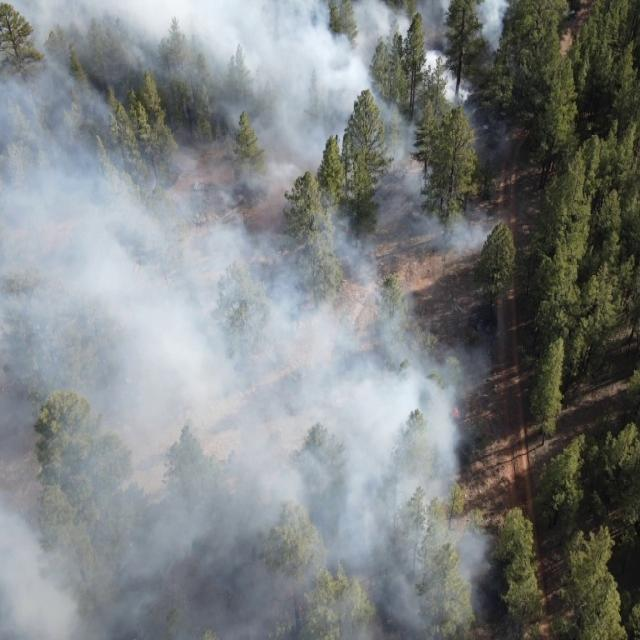fire: (288, 584, 305, 614), (450, 405, 462, 421)
smoke: (0, 0, 516, 640)
